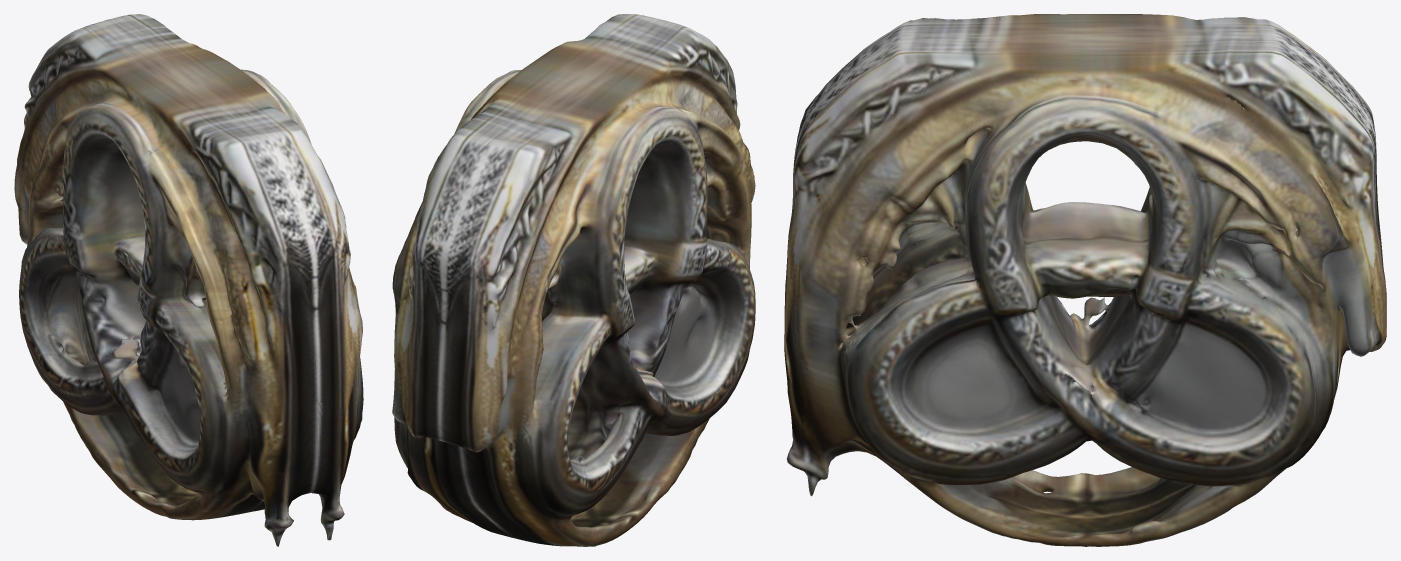
File: triquetra_3d.glb
3 renders of one model, left to right at view 1: azimuth 30°, elevation 25°; view 2: azimuth 150°, elevation 25°; view 3: azimuth 270°, elevation 25°, orthographic. The views are drawn at different scales.
Parts seen in each view (by area): view 1: tripo_node_f0353776-d9a0-43be-81b5-aa9737affa64; view 2: tripo_node_f0353776-d9a0-43be-81b5-aa9737affa64; view 3: tripo_node_f0353776-d9a0-43be-81b5-aa9737affa64.
Boxes of the visible parts, bbox=[...] form: tripo_node_f0353776-d9a0-43be-81b5-aa9737affa64: bbox=[14, 14, 363, 546]; tripo_node_f0353776-d9a0-43be-81b5-aa9737affa64: bbox=[392, 14, 755, 546]; tripo_node_f0353776-d9a0-43be-81b5-aa9737affa64: bbox=[784, 14, 1386, 546].
Size of the model in its own units: 0.2989 by 0.6923 by 0.7726.
Materials: 1 (1 with a texture image).
